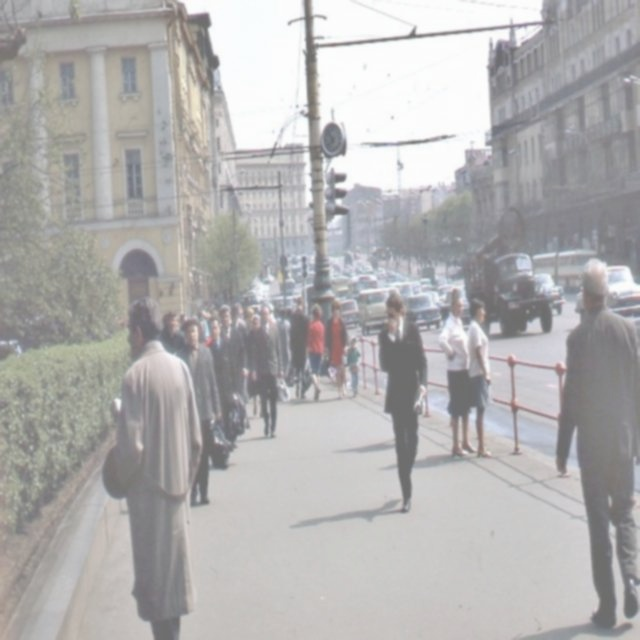pessoa: (99, 292, 205, 639), (550, 252, 640, 632), (377, 290, 430, 514), (174, 314, 230, 508), (436, 283, 480, 459), (158, 301, 303, 353), (250, 301, 292, 440), (204, 314, 240, 460), (466, 298, 494, 460), (286, 494, 404, 530), (371, 238, 463, 277), (218, 304, 248, 398), (323, 298, 349, 400), (288, 294, 312, 400), (302, 302, 326, 403), (245, 314, 265, 418), (372, 450, 459, 470), (330, 438, 400, 457), (158, 310, 187, 352), (276, 308, 292, 380), (345, 334, 362, 400)
